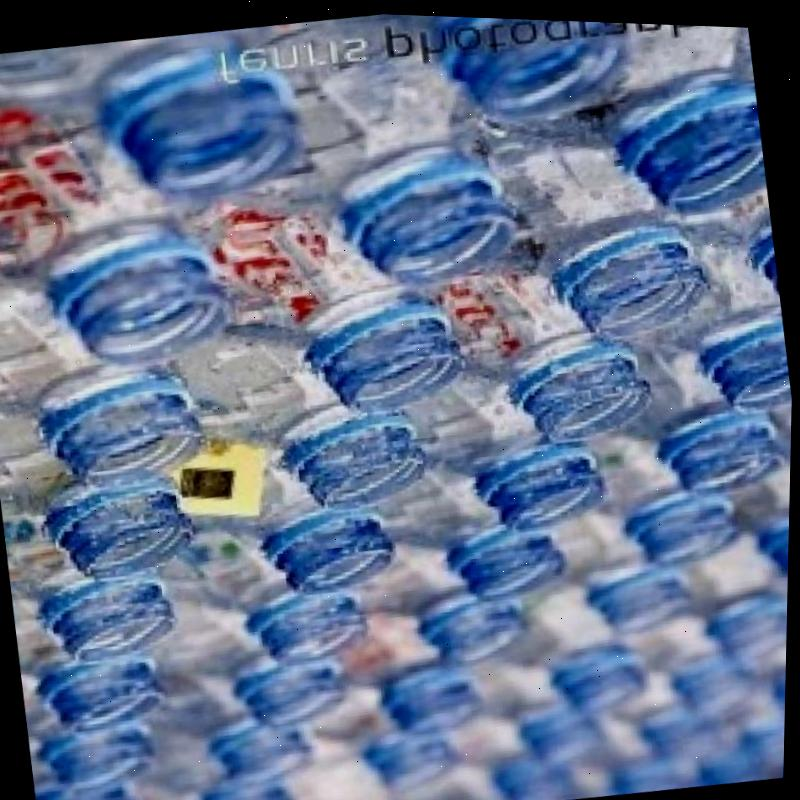botella: (196, 6, 520, 299), (190, 166, 484, 437), (441, 94, 718, 359), (451, 13, 770, 231), (0, 12, 306, 232), (0, 99, 231, 376), (0, 247, 222, 501), (428, 226, 663, 450), (0, 371, 217, 594), (225, 320, 441, 523), (195, 413, 407, 607), (356, 10, 641, 138), (400, 368, 609, 540), (603, 315, 795, 496), (1, 494, 195, 670), (181, 503, 380, 670), (9, 560, 176, 739), (582, 413, 756, 573), (168, 589, 355, 736), (538, 483, 712, 639), (164, 643, 335, 793), (395, 466, 573, 608), (501, 563, 643, 718), (355, 545, 532, 668), (21, 659, 171, 800), (332, 615, 495, 743), (301, 688, 468, 800), (632, 604, 761, 741), (664, 290, 795, 412), (480, 640, 601, 767), (461, 680, 582, 800), (688, 527, 791, 667), (588, 672, 704, 794), (617, 640, 724, 765), (672, 180, 782, 301), (145, 719, 306, 800), (724, 416, 793, 586), (32, 743, 147, 800), (734, 686, 788, 770), (773, 629, 789, 733)
